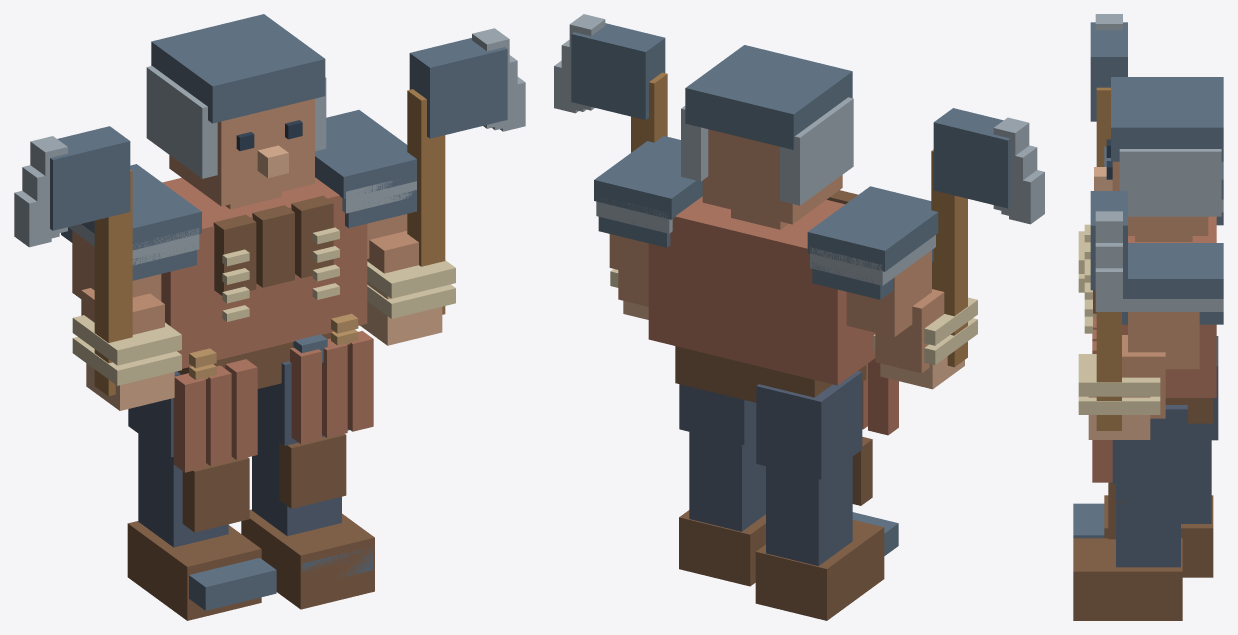
The model's file is arena-q-axes.glb.
3 views of the same model, side by side, from view 1: azimuth 30°, elevation 25°; view 2: azimuth 150°, elevation 25°; view 3: azimuth 270°, elevation 25° (orthographic). The views are drawn at different scales.
Parts seen in each view (by area): view 1: Weapon, Helmet, Boots, Cloth, Skirt, Shoulders, Legs, Wraps, Greaves, Head, Vest, Arms (+4 smaller); view 2: Cloth, Legs, Weapon, Shoulders, Helmet, Boots, Arms, Head, Belt, Wraps, Skirt, Hands (+1 smaller); view 3: Helmet, Legs, Weapon, Boots, Shoulders, Arms, Wraps, Cloth, Head, Hands, Skirt, Vest_Lacing (+3 smaller).
Boxes of the visible parts, box(x1,y1,x2,y2) form: Weapon: box(14, 28, 525, 396); Helmet: box(146, 14, 326, 178); Boots: box(127, 509, 374, 620); Cloth: box(161, 177, 367, 368); Skirt: box(173, 331, 373, 472); Shoulders: box(61, 110, 416, 280); Legs: box(128, 361, 349, 547); Wraps: box(72, 260, 455, 385); Greaves: box(182, 434, 346, 532); Head: box(169, 98, 314, 209); Vest: box(213, 195, 333, 295); Arms: box(72, 214, 418, 334); Cloth: box(648, 196, 875, 385); Legs: box(679, 371, 862, 565); Weapon: box(554, 14, 1044, 367); Shoulders: box(594, 136, 938, 299); Helmet: box(681, 45, 853, 205); Boots: box(679, 510, 898, 620); Arms: box(609, 234, 944, 373); Head: box(702, 129, 842, 229); Belt: box(675, 346, 866, 402); Wraps: box(610, 269, 977, 364); Skirt: box(862, 358, 898, 435); Hands: box(623, 301, 964, 389); Helmet: box(1111, 77, 1223, 216); Legs: box(1109, 336, 1218, 567); Weapon: box(1090, 14, 1127, 430); Boots: box(1073, 495, 1213, 620); Shoulders: box(1104, 146, 1223, 324); Arms: box(1122, 312, 1199, 418); Wraps: box(1078, 231, 1160, 414); Cloth: box(1122, 216, 1216, 397); Head: box(1112, 161, 1208, 241); Hands: box(1088, 313, 1150, 439); Skirt: box(1092, 318, 1112, 482); Vest_Lacing: box(1084, 224, 1092, 333).
Size of the model in its own units: 1.78 by 1.8 by 0.5093.
